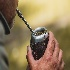guampa: (12, 9, 50, 62)
